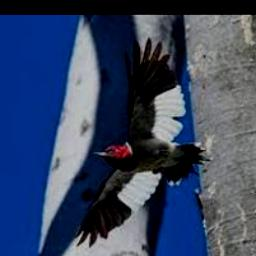Woodpecker: (75, 38, 214, 248)
